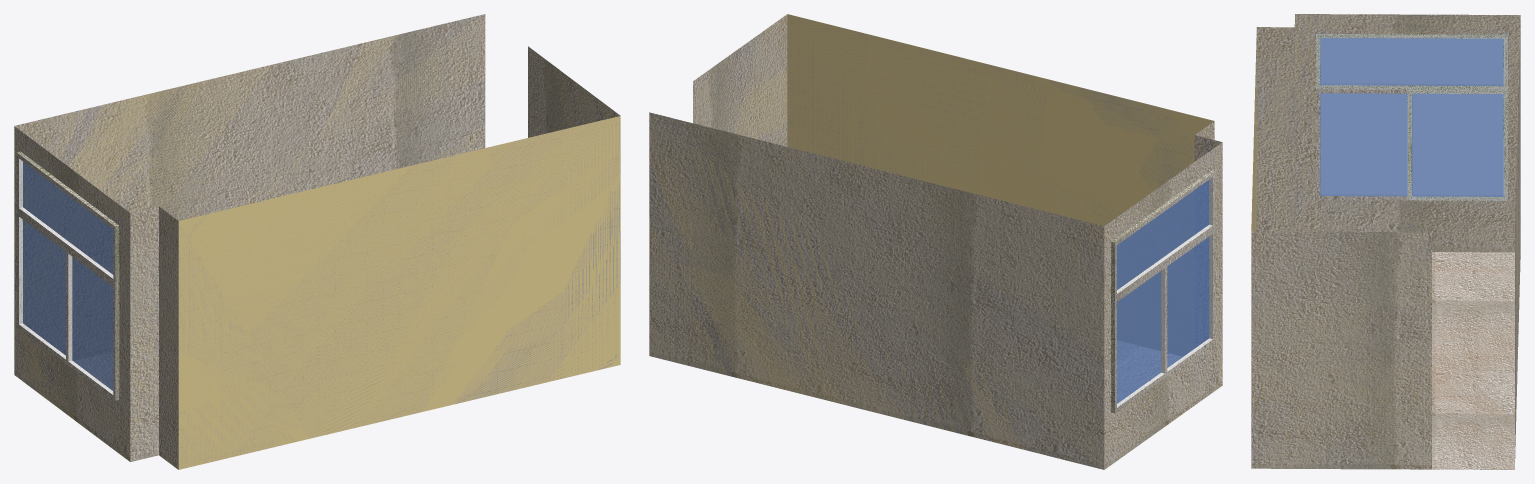
Rendered from DES033.obj.
3 renders of one model, left to right at view 1: azimuth 30°, elevation 25°; view 2: azimuth 150°, elevation 25°; view 3: azimuth 270°, elevation 25°, orthographic. The views are drawn at different scales.
Visible parts, largest first — view 1: Mesh7 DES033 Model, Mesh1 ventana1_1_1 DES033 Model; view 2: Mesh7 DES033 Model, Mesh1 ventana1_1_1 DES033 Model; view 3: Mesh7 DES033 Model, Mesh1 ventana1_1_1 DES033 Model.
Part boxes in pixels (bbox=[...]): Mesh7 DES033 Model: bbox=[14, 14, 620, 469]; Mesh1 ventana1_1_1 DES033 Model: bbox=[16, 151, 119, 400]; Mesh7 DES033 Model: bbox=[649, 14, 1222, 469]; Mesh1 ventana1_1_1 DES033 Model: bbox=[1111, 170, 1215, 413]; Mesh7 DES033 Model: bbox=[1251, 14, 1520, 469]; Mesh1 ventana1_1_1 DES033 Model: bbox=[1316, 34, 1507, 200].
Bounding box in the file's own units: 5.98 × 3 × 3.09.
Materials: 8 (3 with a texture image).
